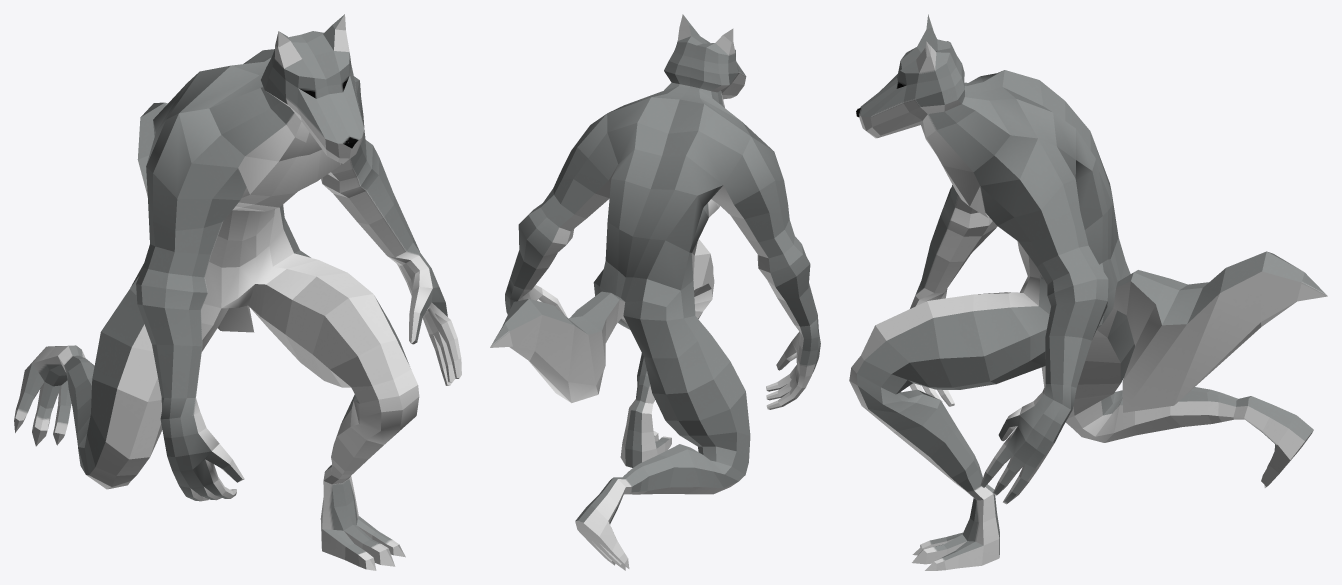
The model's file is WolfWalk(14).obj.
3 renders of one model, left to right at view 1: azimuth 30°, elevation 25°; view 2: azimuth 150°, elevation 25°; view 3: azimuth 270°, elevation 25°, orthographic. The views are drawn at different scales.
Parts seen in each view (by area): view 1: Box001; view 2: Box001; view 3: Box001.
Boxes of the visible parts, <box> form: Box001: <box>14,14,461,570</box>; Box001: <box>490,14,820,570</box>; Box001: <box>849,14,1327,570</box>.
Size of the model in its own units: 77.09 by 120 by 104.
